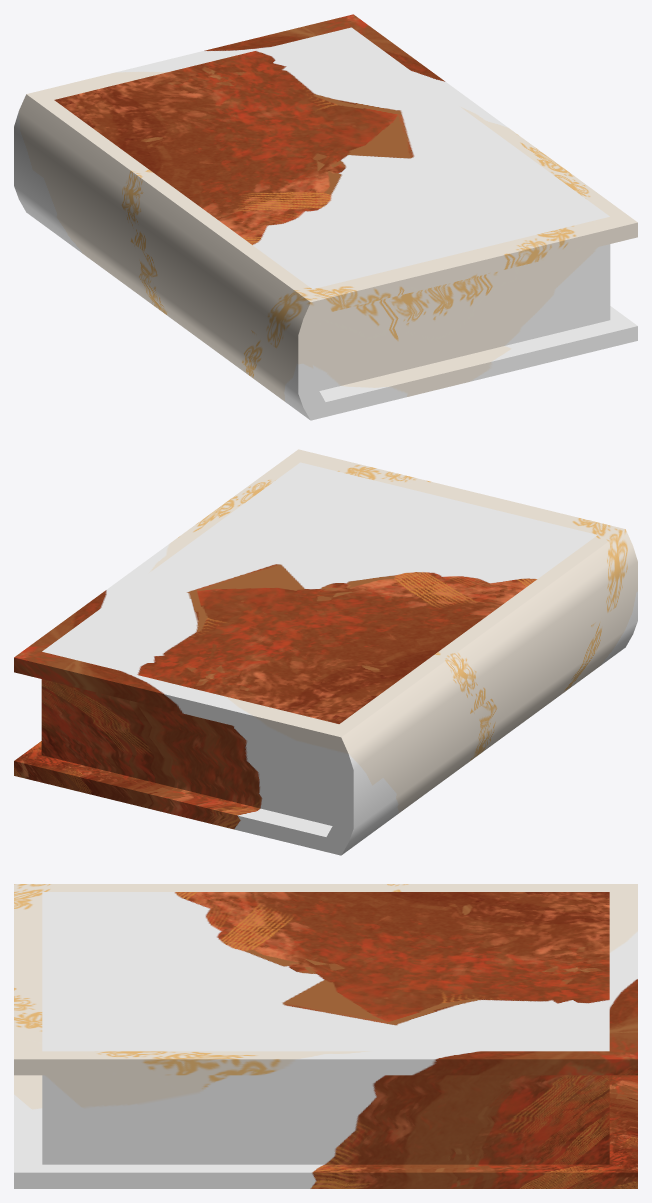
Rendered from cookbookitem.obj.
3 views of the same model, one above another, from view 1: azimuth 30°, elevation 25°; view 2: azimuth 150°, elevation 25°; view 3: azimuth 270°, elevation 25° (orthographic). The views are drawn at different scales.
Parts seen in each view (by area): view 1: pCube1; view 2: pCube1; view 3: pCube1.
Boxes of the visible parts, x1=… form: pCube1: x1=14, y1=14, x2=637, y2=420; pCube1: x1=14, y1=449, x2=637, y2=855; pCube1: x1=14, y1=884, x2=637, y2=1188.
Size of the model in its own units: 0.7581 by 0.2524 by 1.1.
